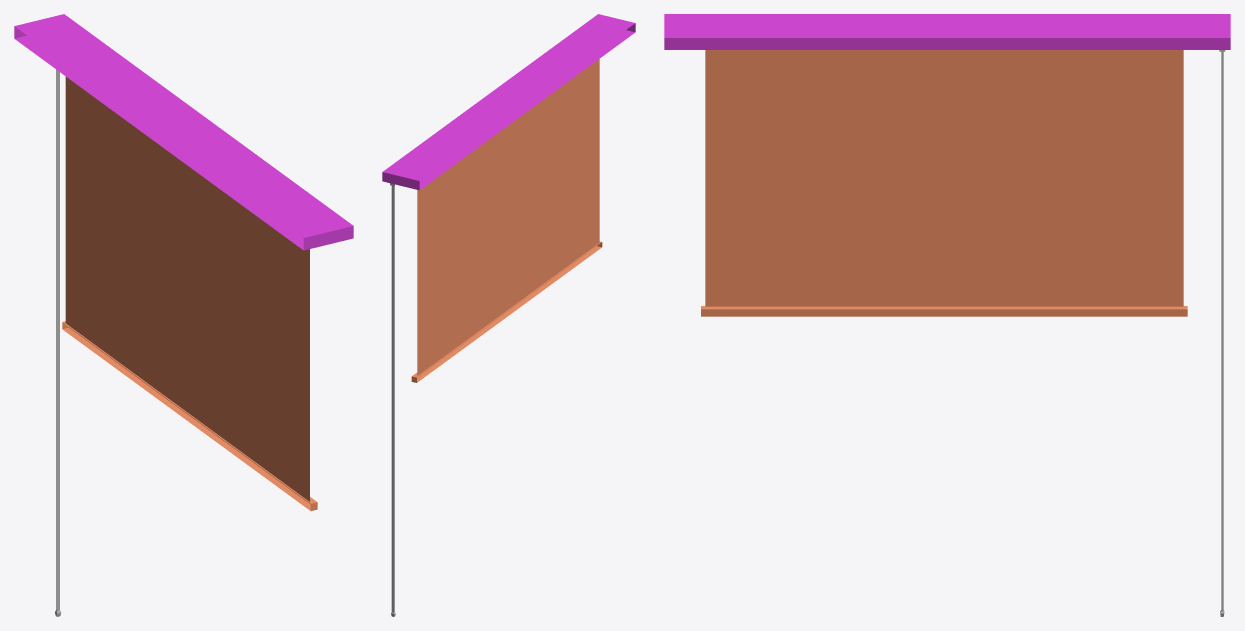
Rendered from BlindCurtains_Clean.fbx.
3 renders of one model, left to right at view 1: azimuth 30°, elevation 25°; view 2: azimuth 150°, elevation 25°; view 3: azimuth 270°, elevation 25°, orthographic. The views are drawn at different scales.
Visible parts, largest first — view 1: WindowBlind_Clean; view 2: WindowBlind_Clean; view 3: WindowBlind_Clean.
Part boxes in pixels (x1,y1,x2,y2): WindowBlind_Clean: [14, 14, 353, 616]; WindowBlind_Clean: [382, 14, 635, 616]; WindowBlind_Clean: [664, 14, 1230, 616].
Bounding box in the file's own units: 14.15 × 161 × 142.
